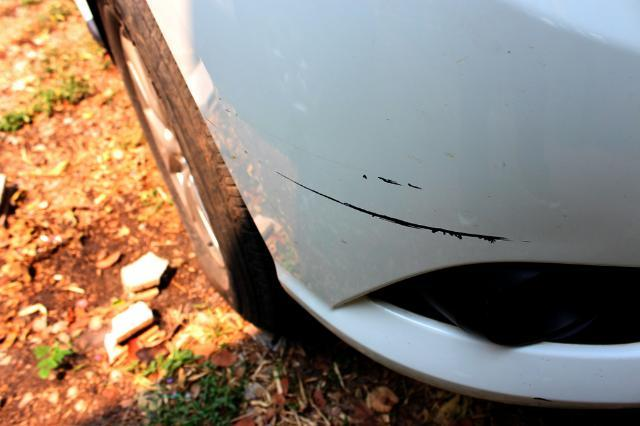scratch: (270, 170, 533, 245), (357, 172, 428, 194)
